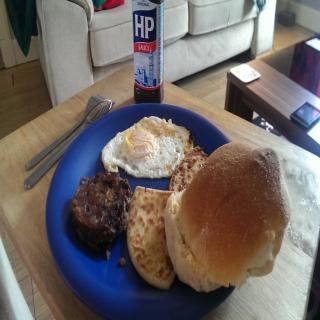Bread: (163, 132, 284, 300)
Hamburger: (166, 140, 291, 293)
